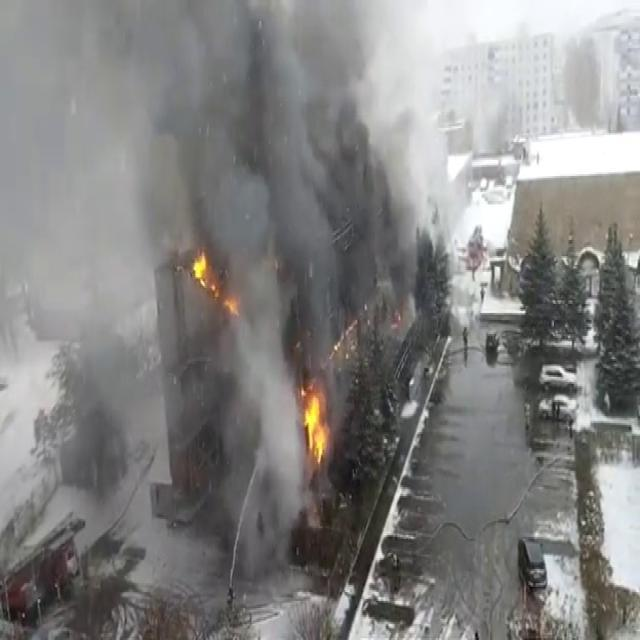Fire: (296, 364, 331, 476), (188, 240, 213, 294)
Smoke: (0, 0, 423, 555)
